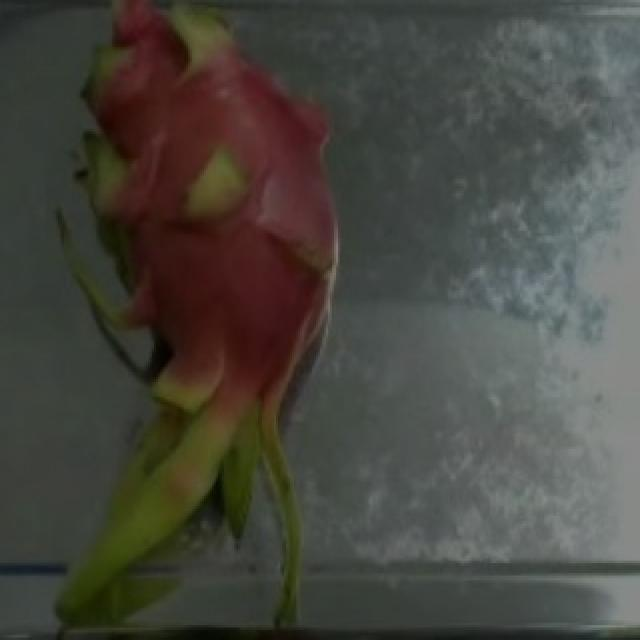fruit: (2, 2, 374, 432), (2, 230, 382, 640)
